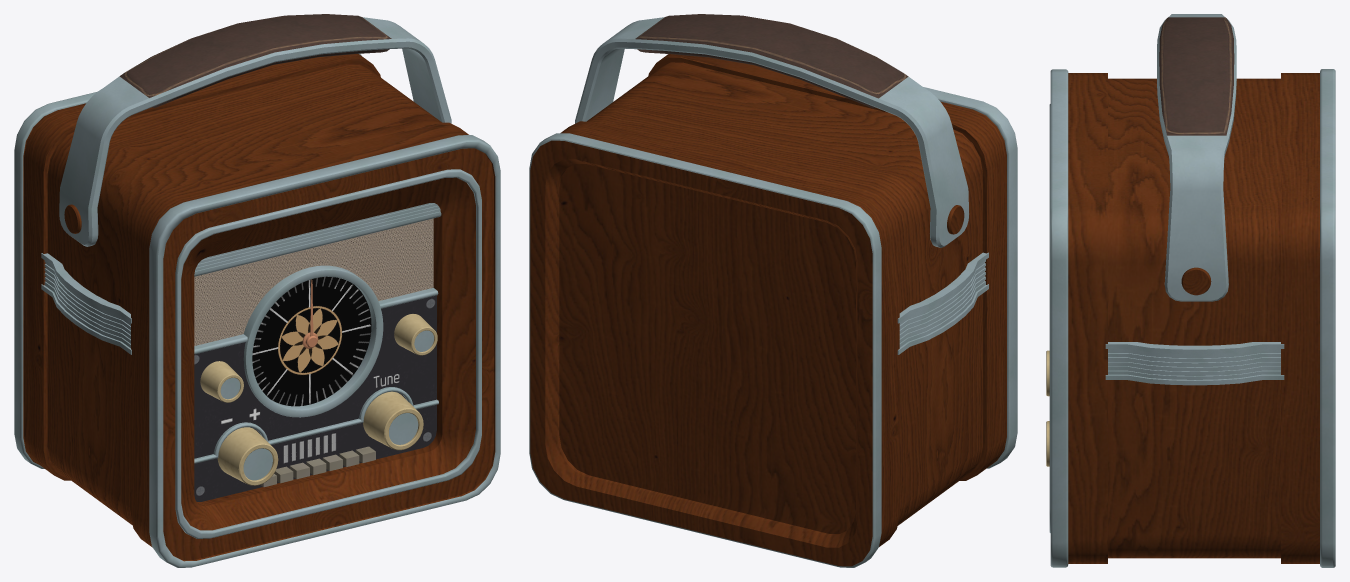
Rendered from vintage_radio.glb.
3 renders of one model, left to right at view 1: azimuth 30°, elevation 25°; view 2: azimuth 150°, elevation 25°; view 3: azimuth 270°, elevation 25°, orthographic.
Parts seen in each view (by area): view 1: Cube, Cube.003, Plane.001, Cube.002, Cylinder.003, Cube.001, Cube.004, Cube.005, Cylinder.002, Cylinder.001, Cylinder; view 2: Cube, Plane.001, Cube.004; view 3: Cube, Plane.001, Cube.004, Cylinder.005.
Part boxes in pixels (x1,y1,x2,y2): Cube: (14,53,500,567); Cube.003: (194,218,438,501); Plane.001: (59,14,451,246); Cube.002: (243,265,383,417); Cylinder.003: (217,391,423,485); Cube.001: (194,203,441,276); Cube.004: (41,253,131,354); Cube.005: (260,446,375,487); Cylinder.002: (194,387,438,463); Cylinder.001: (200,361,243,402); Cylinder: (394,314,437,355); Cube: (529,54,1017,567); Plane.001: (575,14,968,247); Cube.004: (897,252,988,354); Cube: (1049,69,1335,567); Plane.001: (1157,14,1236,301); Cube.004: (1105,342,1284,385); Cylinder.005: (1181,267,1211,295).
Bounding box in the file's own units: 153 × 176 × 104.
9 materials, 9 textured.
